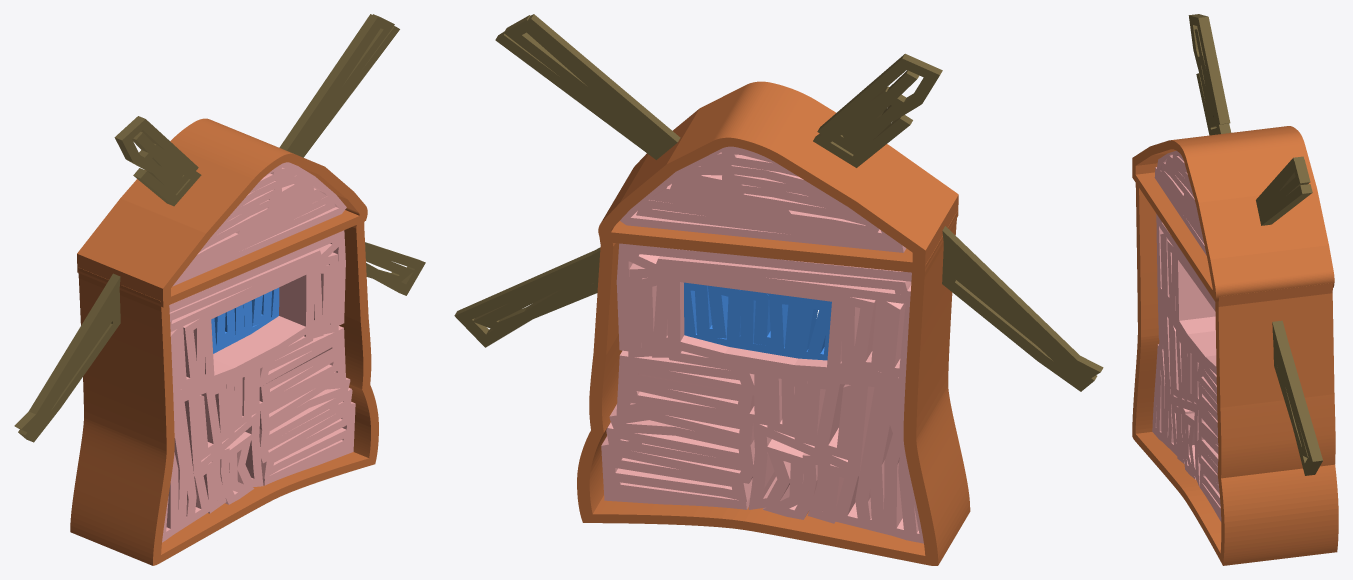
The picture shows the model from 3 angles, left to right: view 1: azimuth 30°, elevation 25°; view 2: azimuth 150°, elevation 25°; view 3: azimuth 270°, elevation 25°; orthographic projection. The views are drawn at different scales.
Parts seen in each view (by area): view 1: 19; view 2: 19; view 3: 19.
Boxes of the visible parts, x1,y1,x2,y2 form: 19: (14,14,425,565); 19: (454,14,1103,565); 19: (1132,14,1338,565).
Bounding box in the file's own units: 0.965 × 0.7926 × 0.3433.
